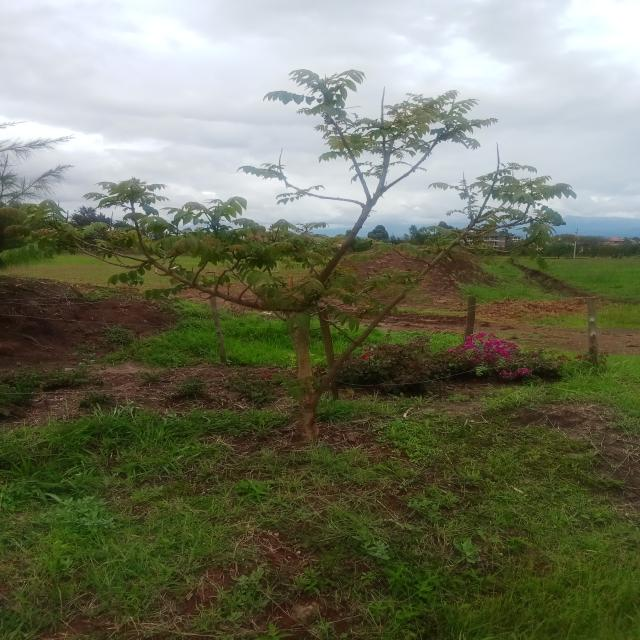Polyscias Kikuyensis: (2, 65, 578, 436)
